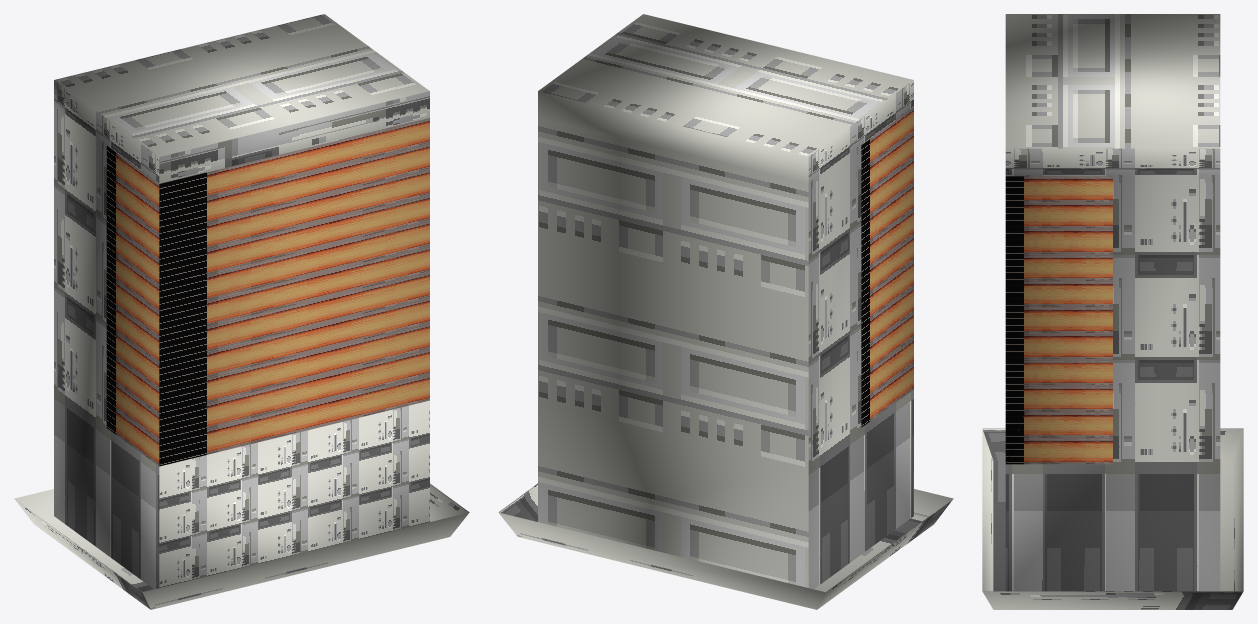
Rendered from 3545IMOT01_18.gltf.
The picture shows the model from 3 angles, left to right: view 1: azimuth 30°, elevation 25°; view 2: azimuth 150°, elevation 25°; view 3: azimuth 270°, elevation 25°; orthographic projection. The views are drawn at different scales.
Visible parts, largest first — view 1: 3545IMOT01_18; view 2: 3545IMOT01_18; view 3: 3545IMOT01_18.
Boxes of the visible parts, <box> form: 3545IMOT01_18: <box>14,14,469,609</box>; 3545IMOT01_18: <box>498,14,953,609</box>; 3545IMOT01_18: <box>982,14,1243,609</box>.
Bounding box in the file's own units: 0.9512 × 1.24 × 0.6445.
4 materials, 4 textured.
